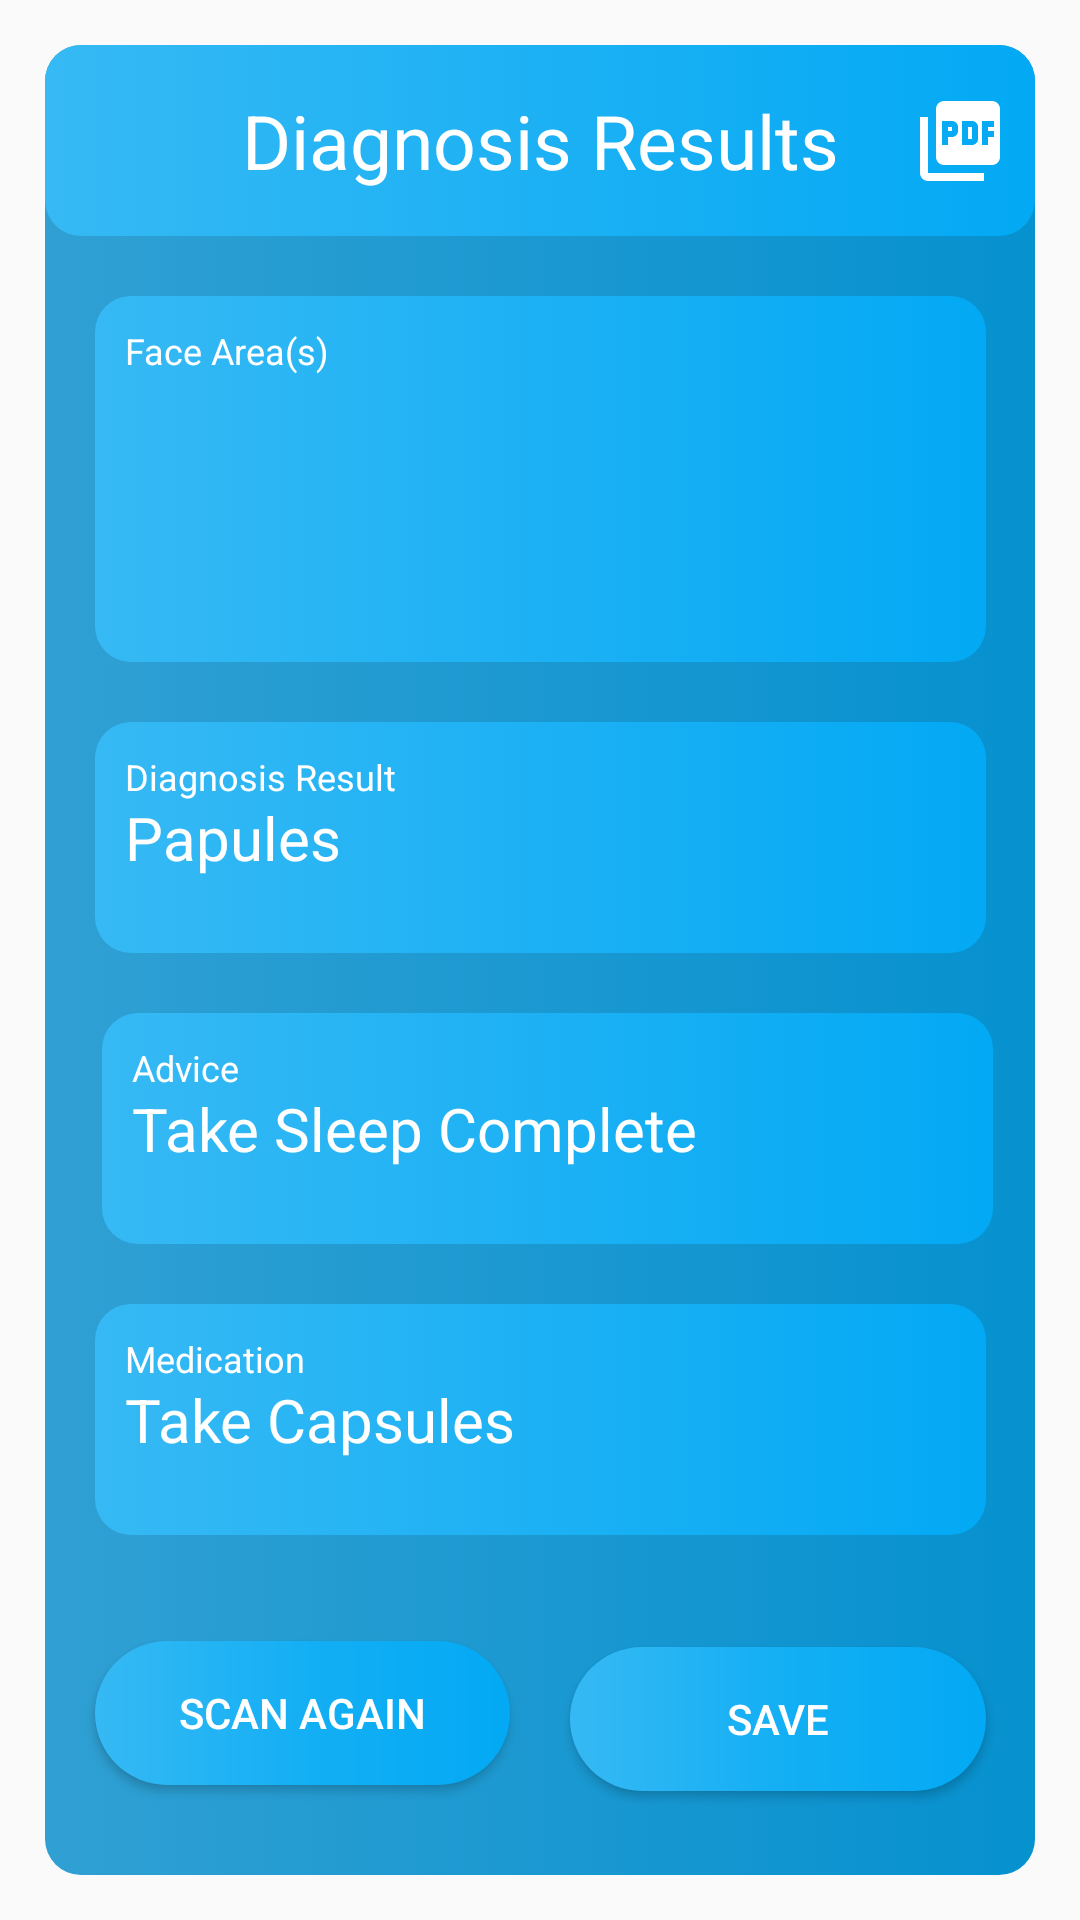

Icon click points for this 1080px×1920px phone screenshot, format point (x, y):
picture as pdf: point (960, 141)
